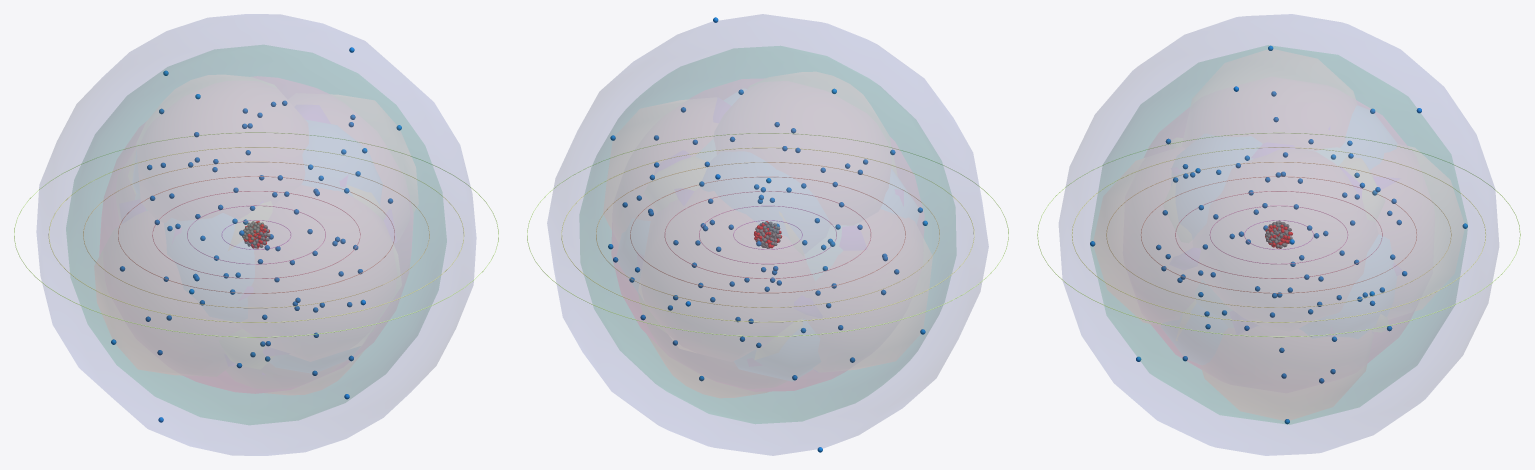
The picture shows the model from 3 angles, left to right: view 1: azimuth 30°, elevation 25°; view 2: azimuth 150°, elevation 25°; view 3: azimuth 270°, elevation 25°; orthographic projection.
Visible parts, largest first — view 1: Orbital_7s_0, Orbital_6s_0, Orbital_6p_1, Orbital_5s_0, Orbital_6p_2, Nivel_n7, Nivel_n6, Nivel_n5, Nivel_n4; view 2: Orbital_7s_0, Orbital_6s_0, Orbital_6p_1, Orbital_5s_0, Orbital_6p_2, Nivel_n7, Nivel_n6, Nivel_n5, Nivel_n4; view 3: Orbital_7s_0, Orbital_6s_0, Orbital_6p_2, Orbital_6p_0, Orbital_5s_0, Nivel_n7, Nivel_n6, Nivel_n5, Nivel_n4.
Part boxes in pixels (left/top/right/bottom): Orbital_7s_0: left=36, top=14, right=476, bottom=455; Orbital_6s_0: left=66, top=45, right=446, bottom=424; Orbital_6p_1: left=94, top=95, right=418, bottom=374; Orbital_5s_0: left=100, top=76, right=412, bottom=393; Orbital_6p_2: left=137, top=75, right=361, bottom=394; Nivel_n7: left=14, top=132, right=498, bottom=337; Nivel_n6: left=48, top=147, right=464, bottom=322; Nivel_n5: left=83, top=161, right=429, bottom=308; Nivel_n4: left=118, top=176, right=394, bottom=293; Orbital_7s_0: left=547, top=14, right=988, bottom=455; Orbital_6s_0: left=580, top=46, right=955, bottom=423; Orbital_6p_1: left=603, top=100, right=931, bottom=369; Orbital_5s_0: left=612, top=79, right=923, bottom=391; Orbital_6p_2: left=650, top=72, right=892, bottom=397; Nivel_n7: left=527, top=133, right=1008, bottom=336; Nivel_n6: left=561, top=147, right=974, bottom=322; Nivel_n5: left=596, top=162, right=939, bottom=307; Nivel_n4: left=630, top=176, right=905, bottom=293; Orbital_7s_0: left=1059, top=14, right=1498, bottom=455; Orbital_6s_0: left=1090, top=45, right=1467, bottom=424; Orbital_6p_2: left=1191, top=49, right=1366, bottom=420; Orbital_6p_0: left=1094, top=147, right=1463, bottom=323; Orbital_5s_0: left=1144, top=101, right=1415, bottom=368; Nivel_n7: left=1037, top=132, right=1520, bottom=337; Nivel_n6: left=1072, top=147, right=1485, bottom=322; Nivel_n5: left=1106, top=162, right=1451, bottom=307; Nivel_n4: left=1141, top=176, right=1416, bottom=293.
Bounding box in the file's own units: 2.1 × 1.92 × 2.1.
